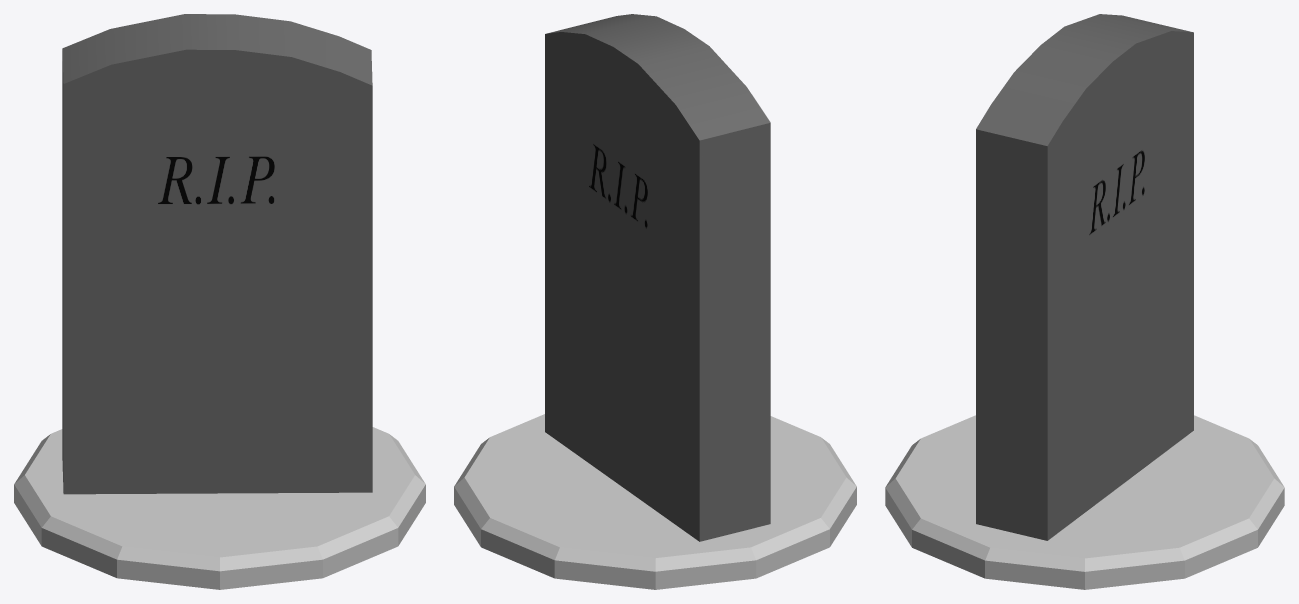
File: Gravestone.fbx
The picture shows the model from 3 angles, left to right: view 1: azimuth 30°, elevation 25°; view 2: azimuth 150°, elevation 25°; view 3: azimuth 270°, elevation 25°; orthographic projection. The views are drawn at different scales.
Parts seen in each view (by area): view 1: Gravestone; view 2: Gravestone; view 3: Gravestone.
Boxes of the visible parts, x1,y1,x2,y2 form: Gravestone: [14, 14, 425, 589]; Gravestone: [454, 14, 856, 589]; Gravestone: [885, 14, 1284, 589].
Bounding box in the file's own units: 200 × 253 × 200.
